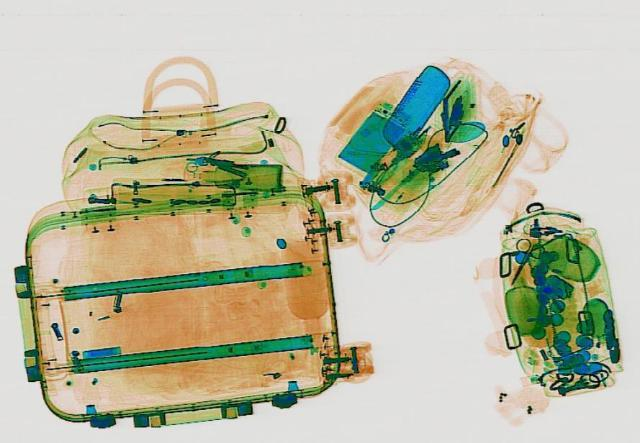Scissors: (494, 234, 550, 286)
